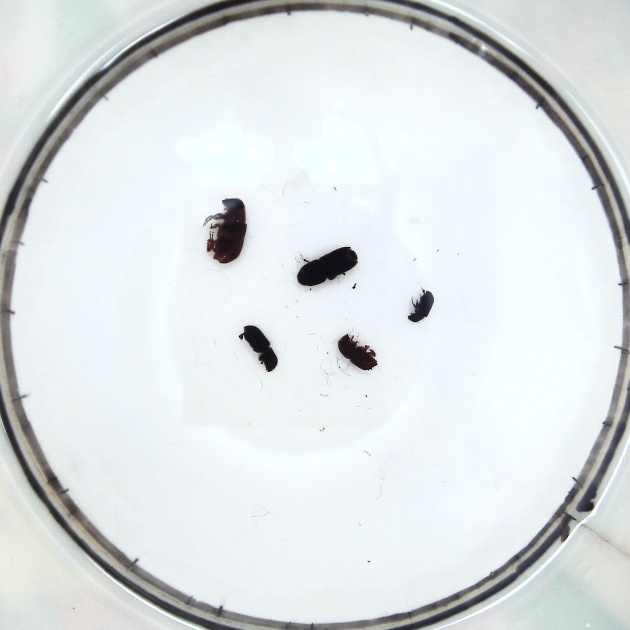armandi: (242, 323, 278, 374)
boerner: (293, 244, 357, 288)
coleoptera: (404, 288, 434, 323)
leconte: (196, 195, 244, 264)
linnaeus: (337, 332, 380, 371)
